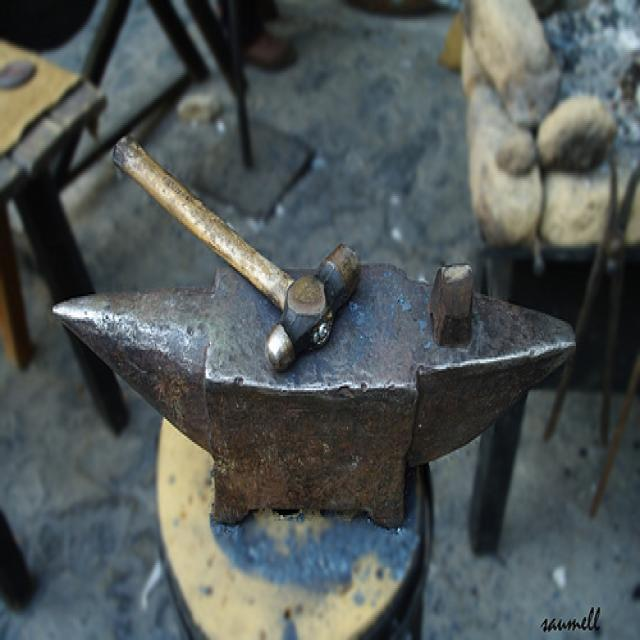hammer: (107, 118, 376, 398)
